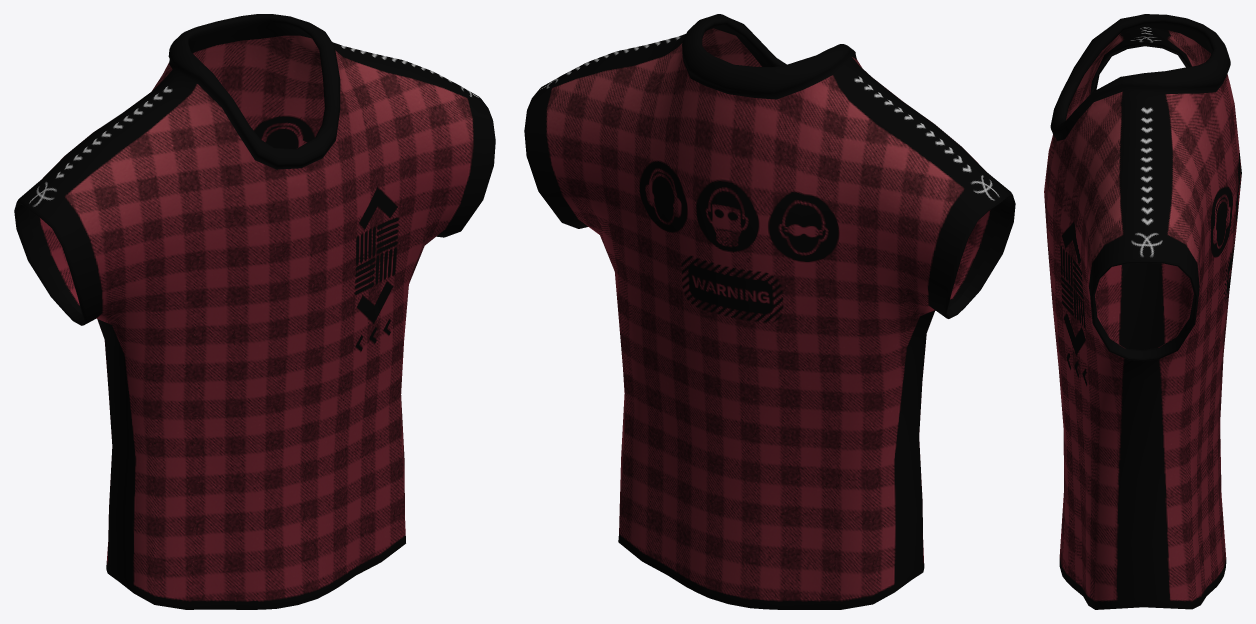
The model's file is t-shirt_red.glb.
The picture shows the model from 3 angles, left to right: view 1: azimuth 30°, elevation 25°; view 2: azimuth 150°, elevation 25°; view 3: azimuth 270°, elevation 25°; orthographic projection. The views are drawn at different scales.
Parts seen in each view (by area): view 1: polySurface8; view 2: polySurface8; view 3: polySurface8.
Part boxes in pixels (x1,y1,x2,y2): polySurface8: (14,14,495,609); polySurface8: (524,14,1015,609); polySurface8: (1044,14,1241,609).
Size of the model in its own units: 3.99 by 4.46 by 1.53.
1 material, 1 textured.
